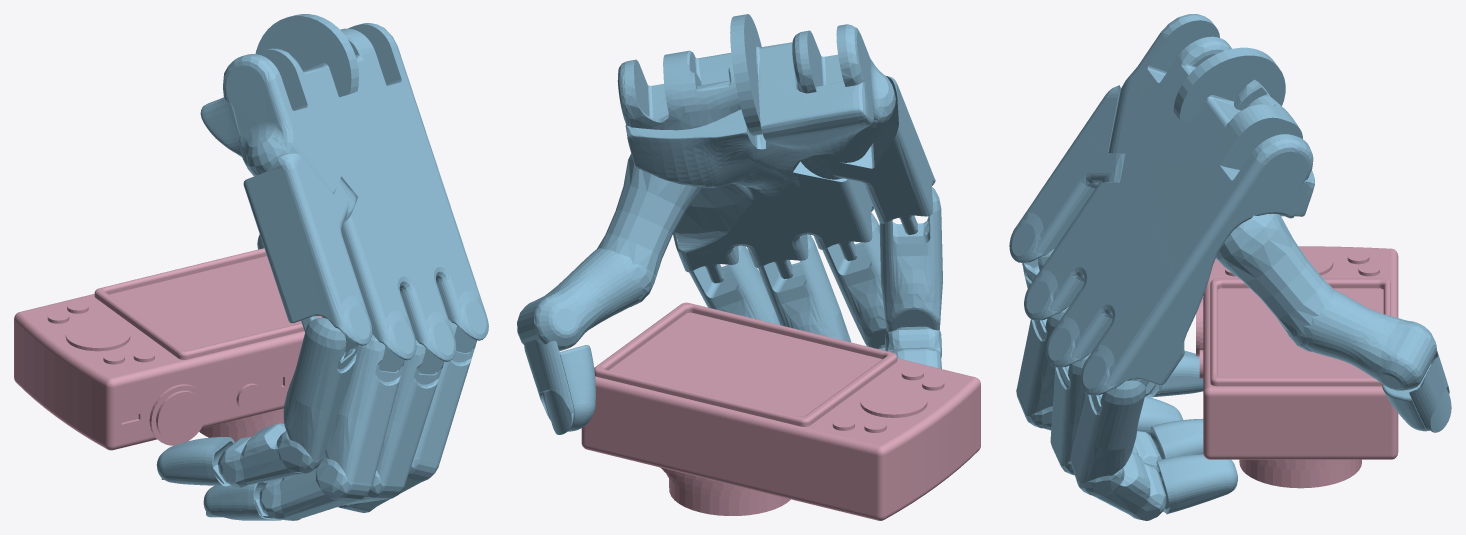
The picture shows the model from 3 angles, left to right: view 1: azimuth 30°, elevation 25°; view 2: azimuth 150°, elevation 25°; view 3: azimuth 270°, elevation 25°; orthographic projection. The views are drawn at different scales.
Visible parts, largest first — view 1: world; view 2: world; view 3: world.
Part boxes in pixels (x1,y1,x2,y2): world: [14, 14, 488, 520]; world: [517, 14, 980, 520]; world: [1009, 14, 1451, 520].
Bounding box in the file's own units: 0.1356 × 0.171 × 0.1467.
